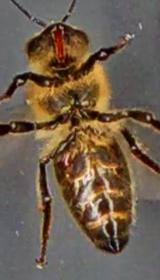varroa_mite: (55, 144, 75, 178)
